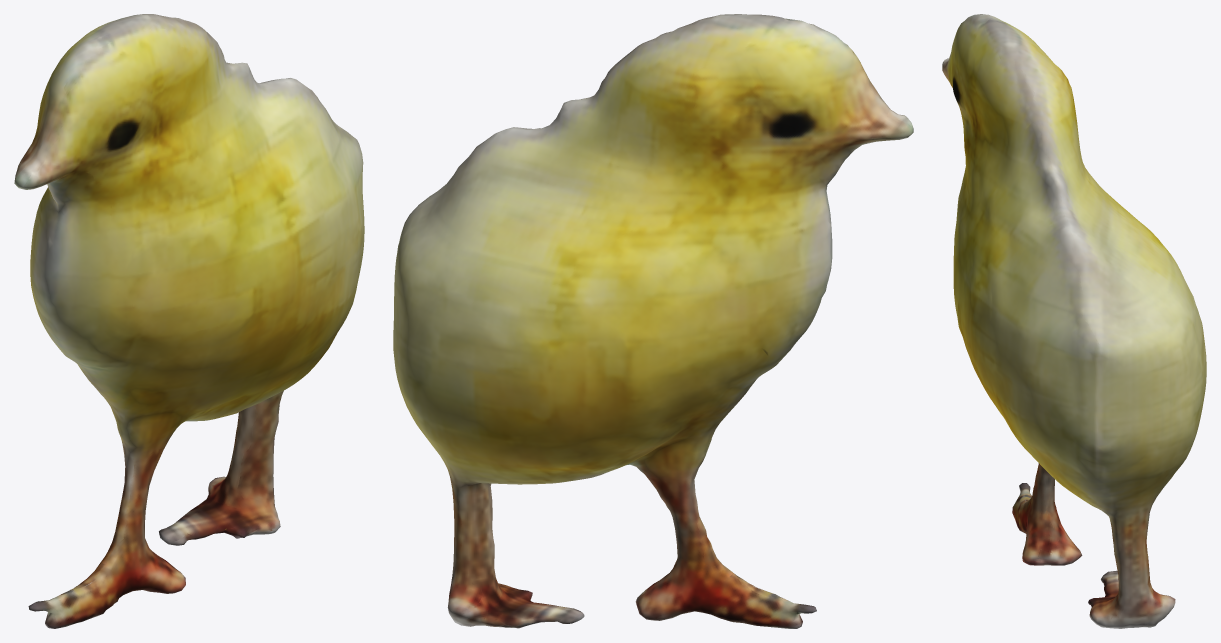
The model's file is bebe.glb.
3 renders of one model, left to right at view 1: azimuth 30°, elevation 25°; view 2: azimuth 150°, elevation 25°; view 3: azimuth 270°, elevation 25°, orthographic. The views are drawn at different scales.
Visible parts, largest first — view 1: mesh; view 2: mesh; view 3: mesh.
Boxes of the visible parts, x1,y1,x2,y2 form: mesh: [14, 14, 364, 628]; mesh: [393, 14, 913, 628]; mesh: [942, 14, 1206, 628].
Size of the model in its own units: 1.31 by 1.77 by 0.8263.
Materials: 1 (1 with a texture image).
